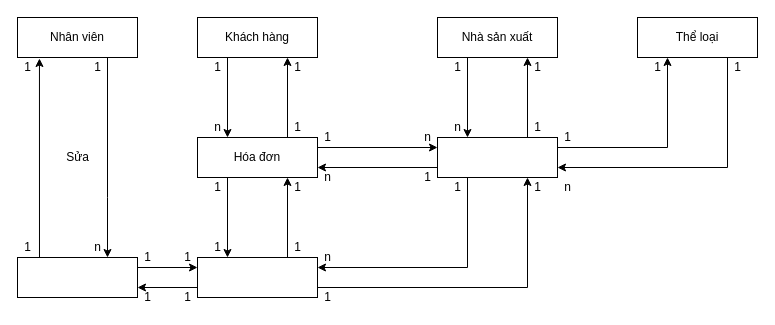
Some shapes in this 775 by 325 pixel diagram are drawn without their labels. Here are the shapes that lost their labels. From the top down, the box of each, then its label:
(436, 136, 558, 178): Sản phẩm
(16, 256, 138, 298): Tình trạng hóa đơn
(196, 256, 318, 298): Hóa đơn chi tiết
